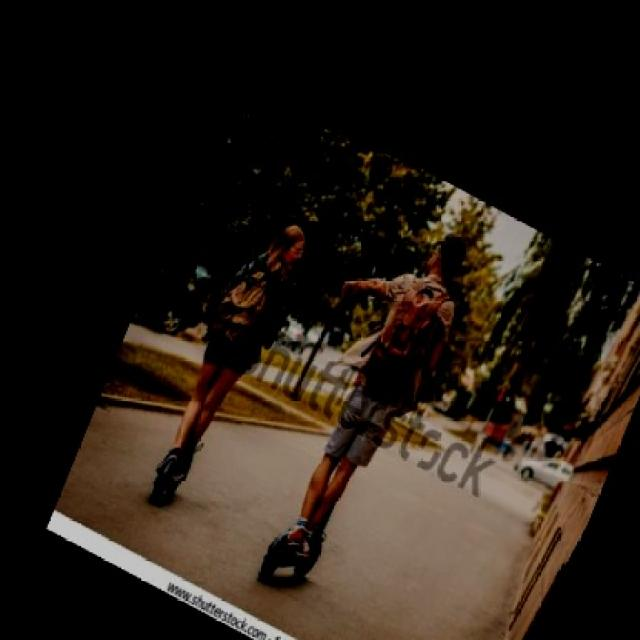bare_head: (429, 231, 488, 292)
human: (338, 217, 466, 576)
kickboard: (250, 530, 369, 592)
